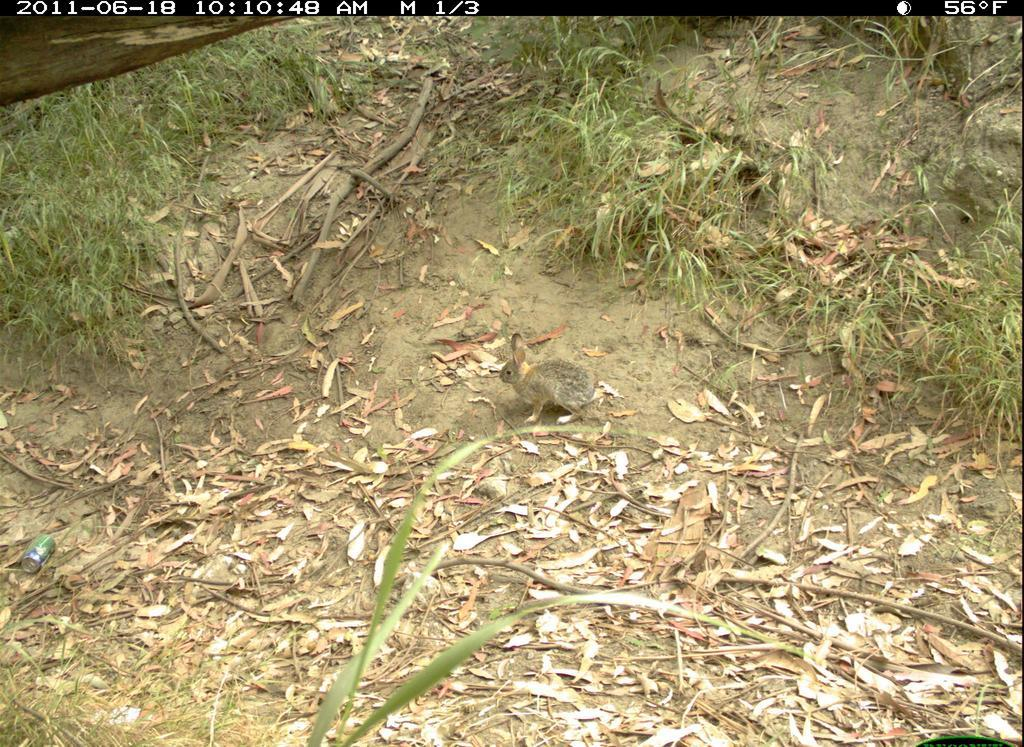rabbit: (487, 326, 625, 449)
